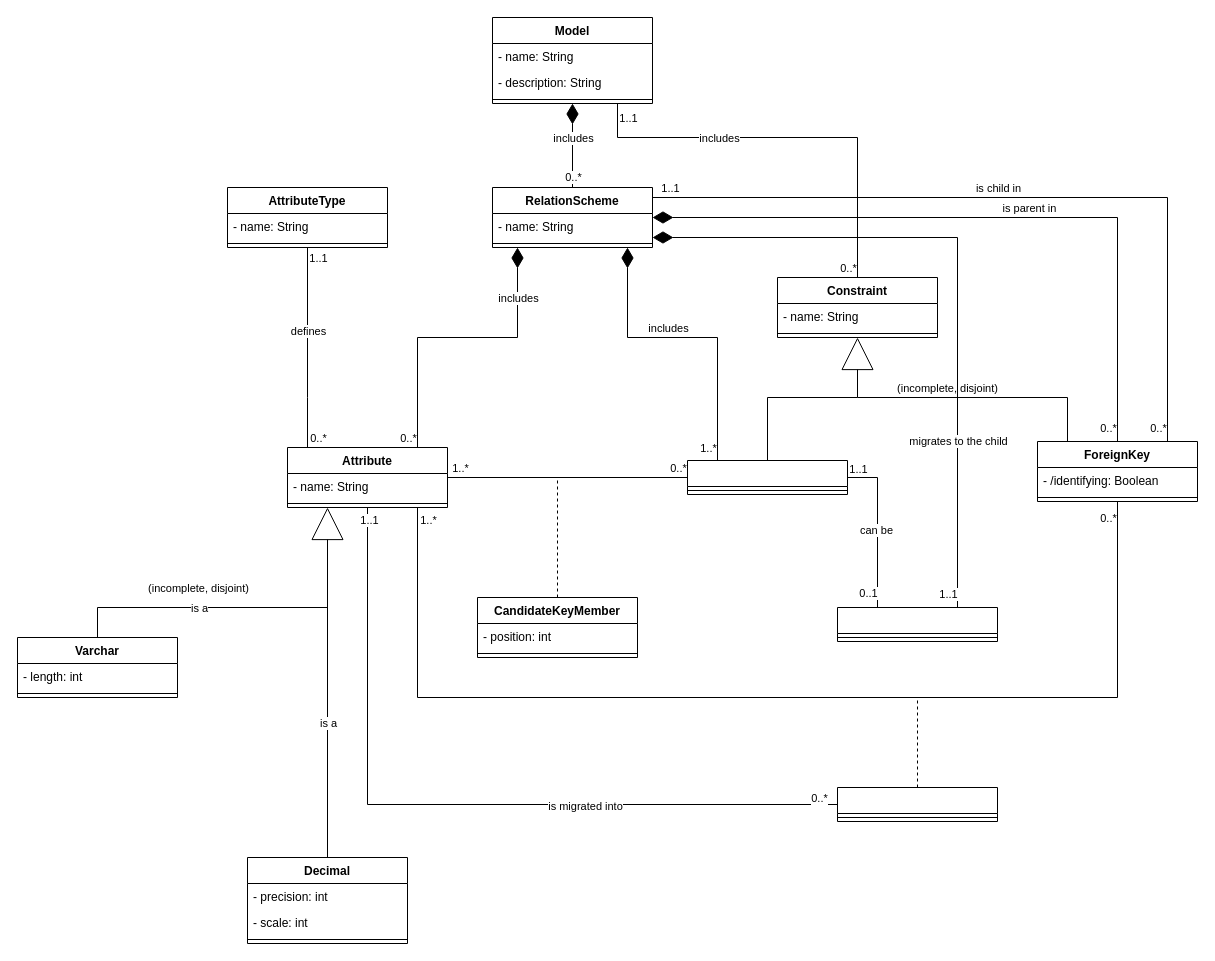
This 1215x961 diagram has some shape labels left out. The shapes that lost their labels are listed below. From the top down, each one's centre as x and y in pixels, then its label:
At [767,477]: "CandidateKey".
At [917,624]: "PrimaryKey".
At [917,804]: "ForeignKeyMigration".
